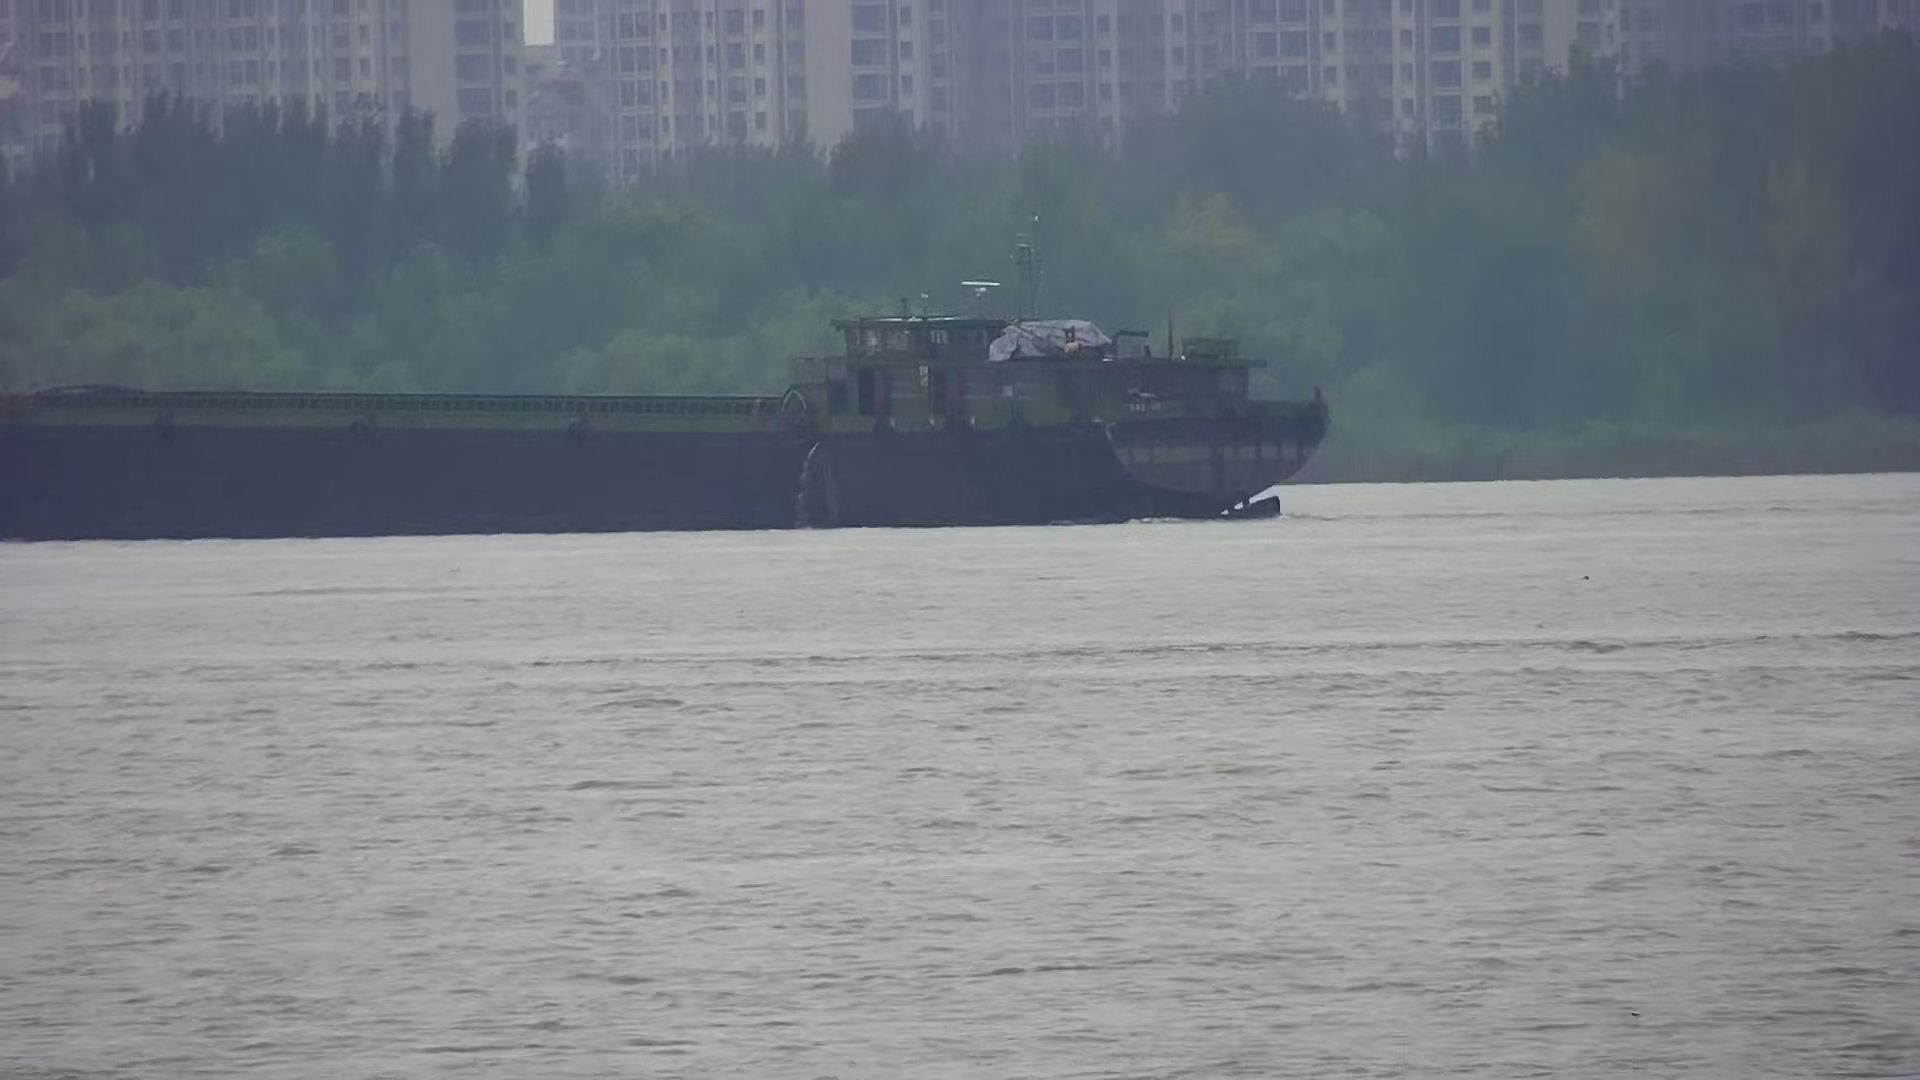ship: (1, 229, 1331, 539)
